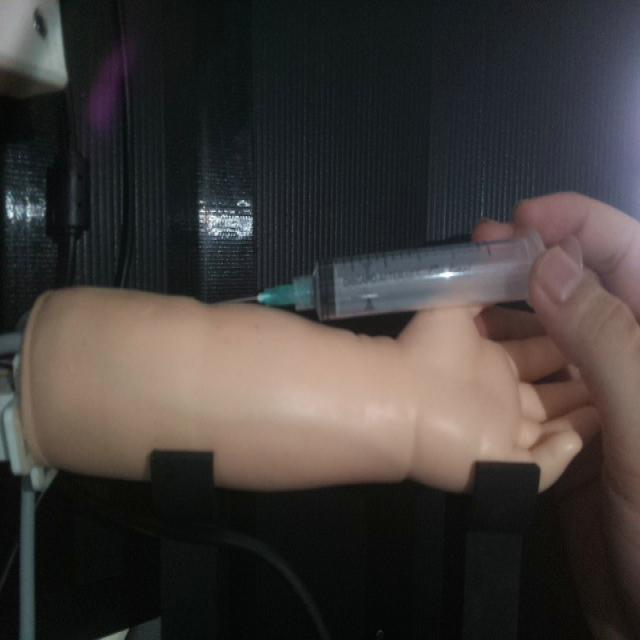Below 15 degrees: (229, 222, 551, 322)
